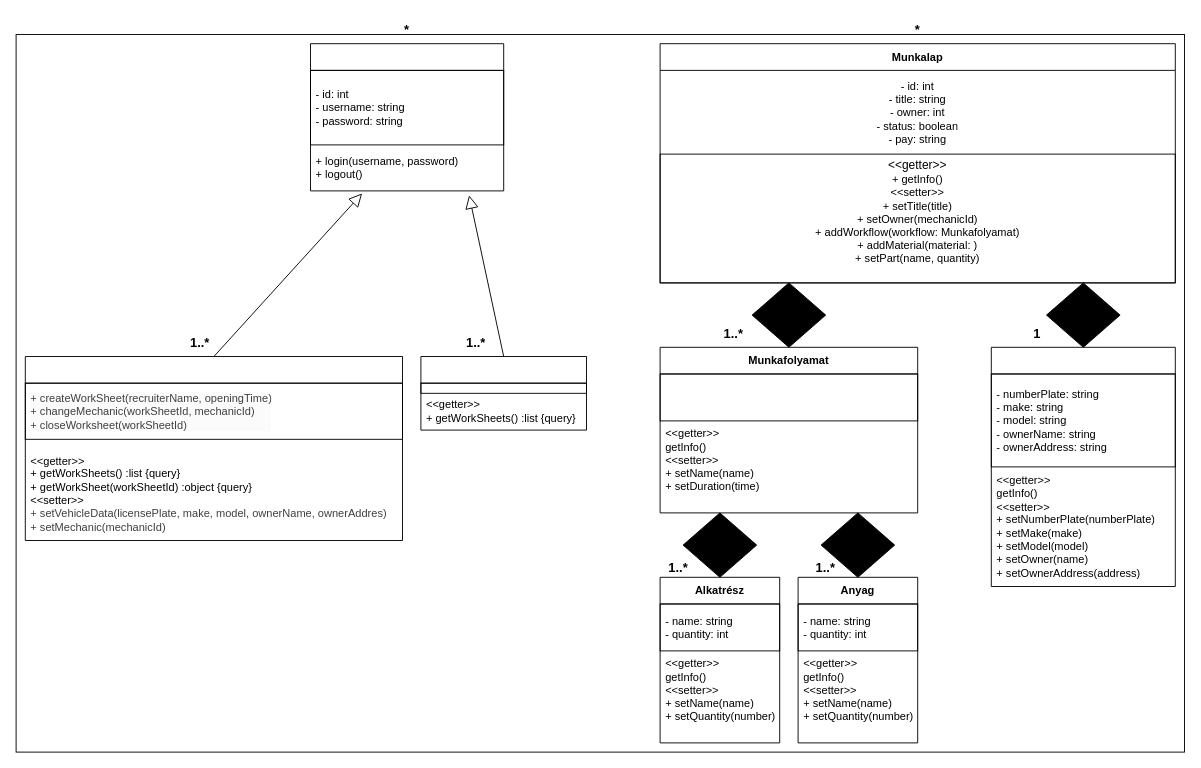
Image size: 1201x768. Some labels were removed from this diagram. Each missing label, with the box of its shape:
- name: string - duration: int: (659, 373, 918, 421)
<<Felhasználó>> Munkafelvevő: (24, 356, 402, 540)
<<Felhasználó>> Szerelő: (420, 356, 586, 430)
Felhasználó: (310, 43, 504, 191)
Jármű: (990, 346, 1175, 586)
